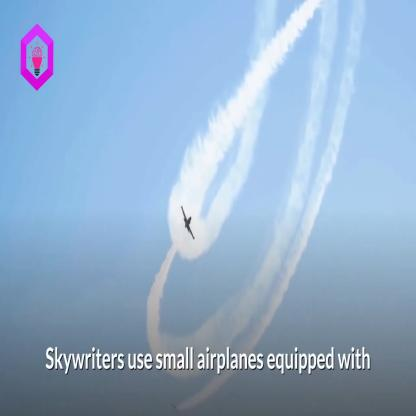plane: (179, 198, 208, 253)
